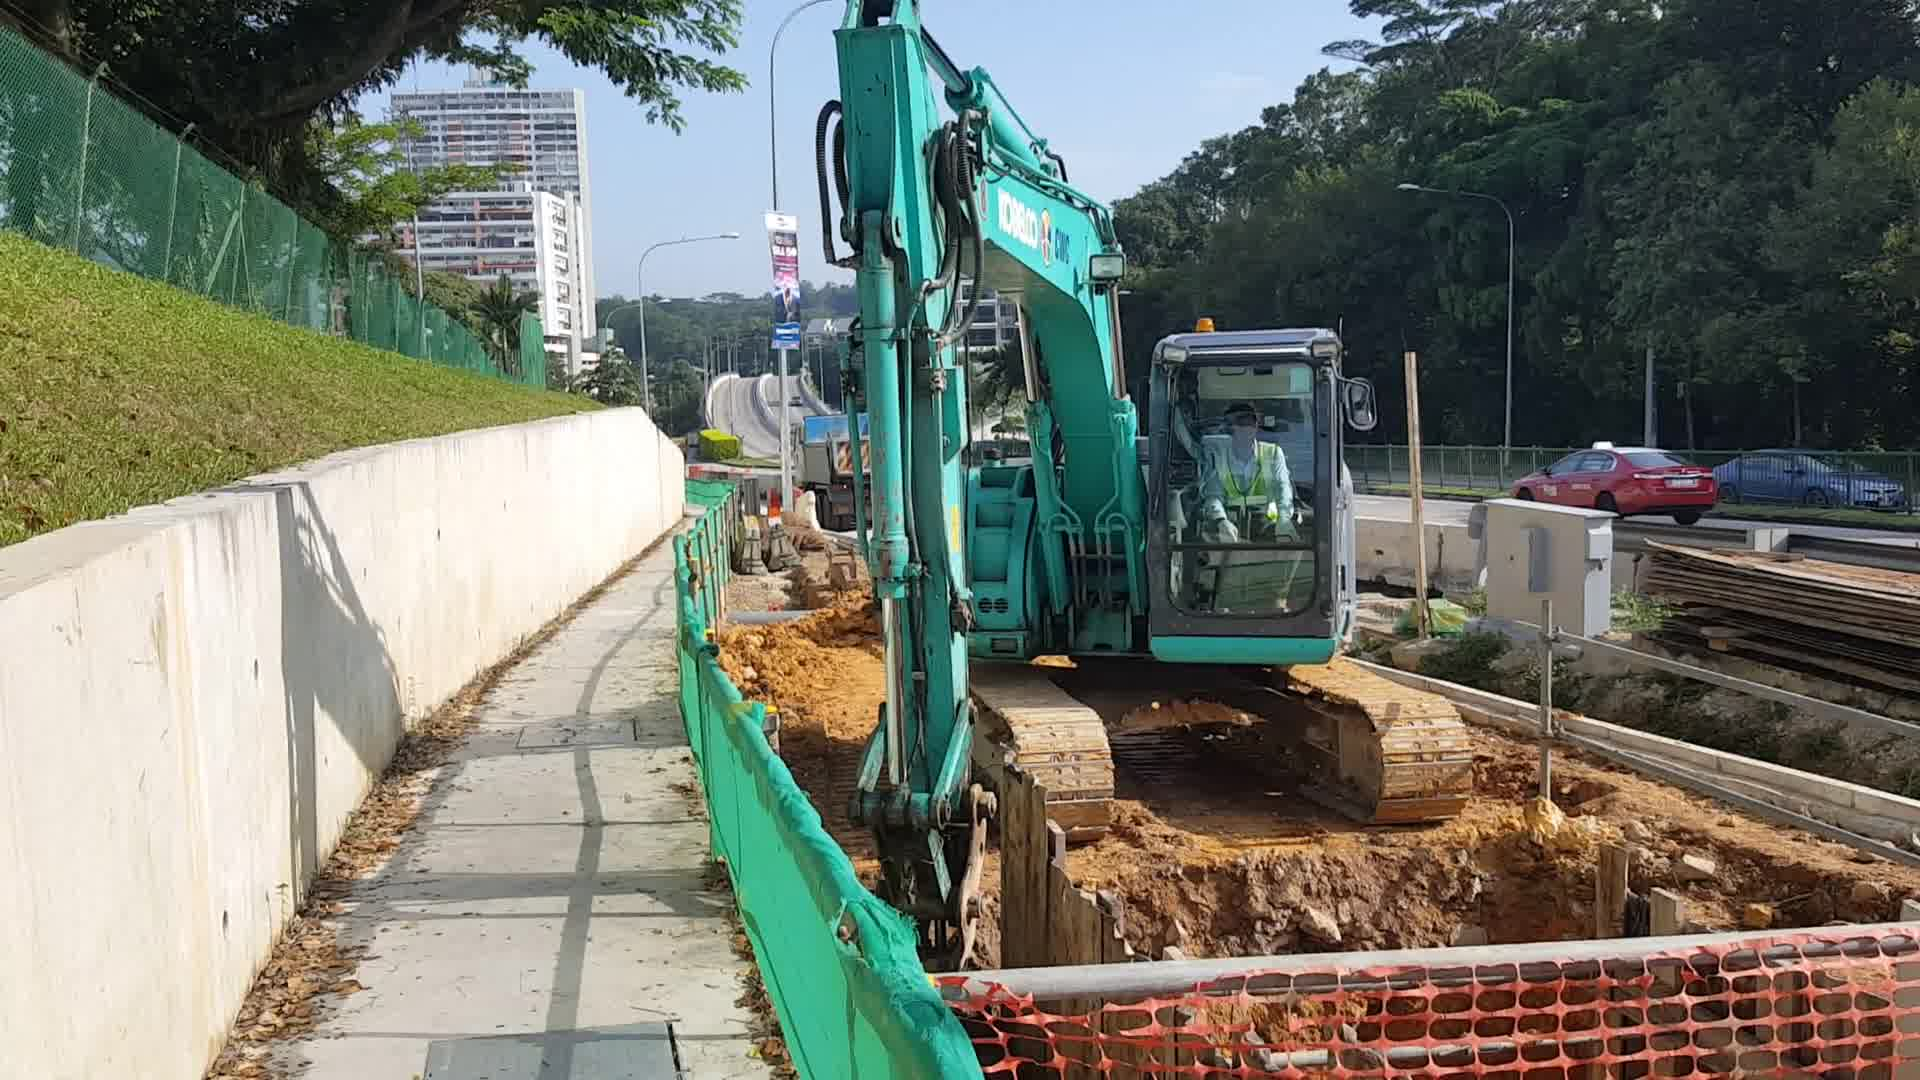cabin: (955, 318, 1375, 662)
forearm: (829, 3, 967, 825)
upperarm: (920, 138, 1139, 655)
wheelbase: (969, 655, 1481, 833)
